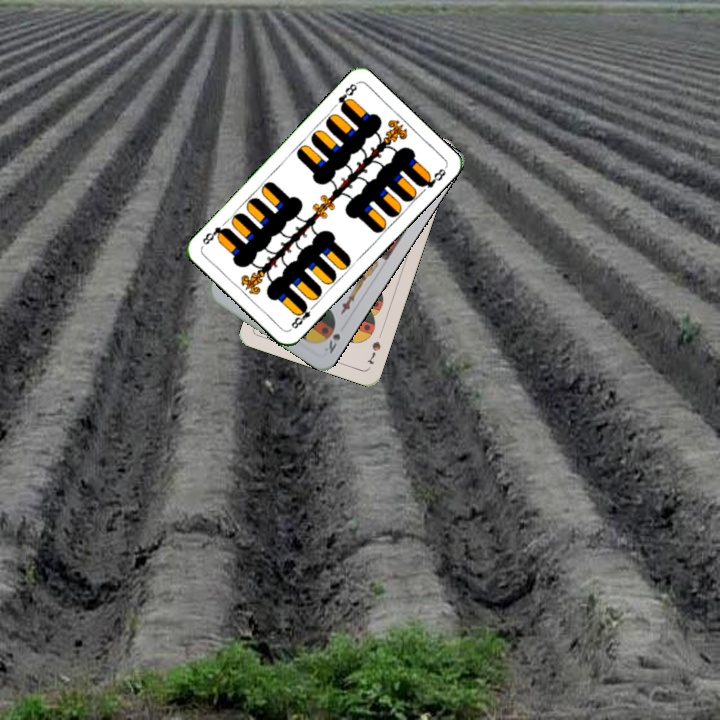E8: (287, 300, 318, 331), (334, 79, 360, 114)
S7: (363, 337, 383, 367)
SK: (320, 329, 343, 356)
